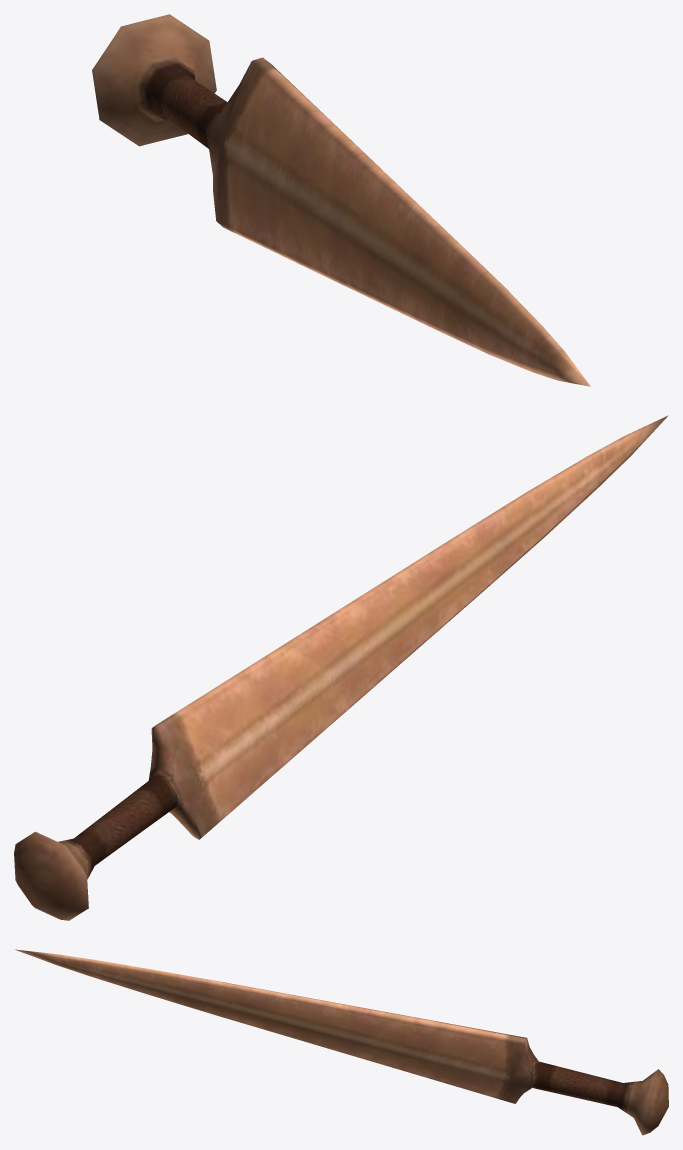
The model's file is rider-weapon-slice-base.glb.
3 views of the same model, one above another, from view 1: azimuth 30°, elevation 25°; view 2: azimuth 150°, elevation 25°; view 3: azimuth 270°, elevation 25° (orthographic). The views are drawn at different scales.
Bounding box in the file's own units: 0.2191 × 0.2193 × 0.9757.
Materials: 1 (1 with a texture image).
